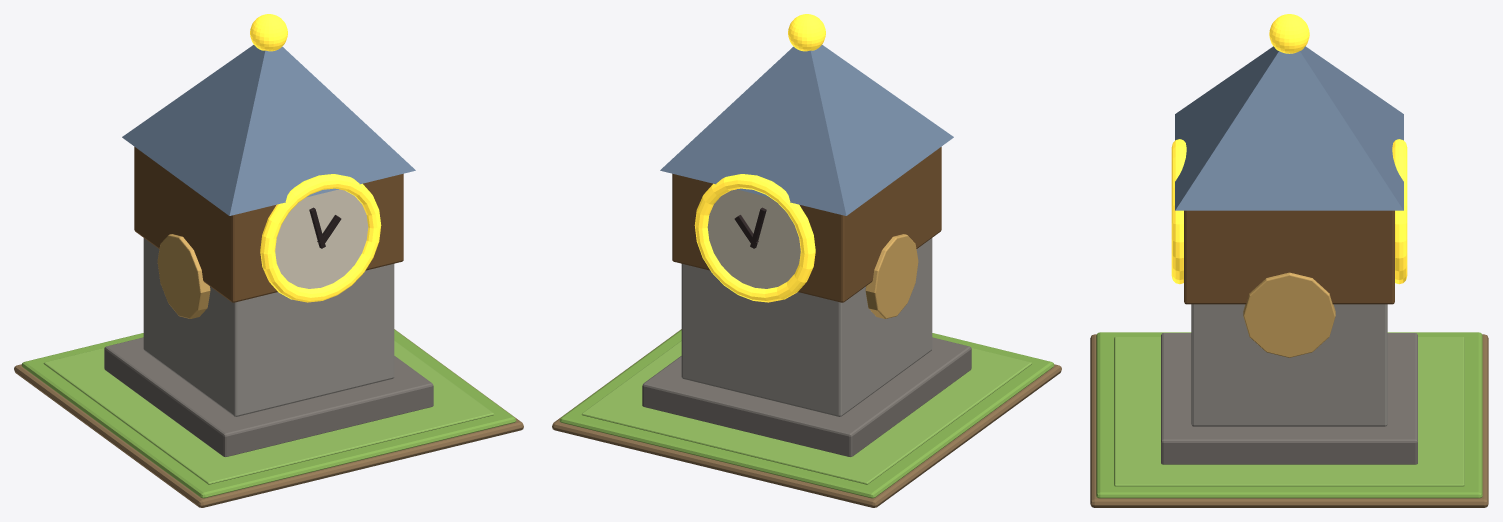
Rendered from clock_tower_lv2.glb.
3 renders of one model, left to right at view 1: azimuth 30°, elevation 25°; view 2: azimuth 150°, elevation 25°; view 3: azimuth 270°, elevation 25°, orthographic. The views are drawn at different scales.
Visible parts, largest first — view 1: CT_SpireRoof, CT_LowerShaft, Base_Inner, CT_Plinth, CT_UpperHousing, Base_Grass, ClockDial_-1, Base_Dirt, ClockBezel_-1, CT_SideGear_-1, CT_ApexOrb; view 2: CT_SpireRoof, CT_LowerShaft, Base_Inner, CT_Plinth, CT_UpperHousing, Base_Grass, ClockDial_1, Base_Dirt, ClockBezel_1, CT_SideGear_-1, CT_ApexOrb; view 3: CT_SpireRoof, CT_LowerShaft, Base_Inner, CT_UpperHousing, CT_Plinth, Base_Grass, Base_Dirt, CT_SideGear_1, ClockBezel_1, ClockBezel_-1, CT_ApexOrb.
Boxes of the visible parts, x1,y1,x2,y2 form: CT_SpireRoof: [122, 45, 415, 215]; CT_LowerShaft: [143, 238, 394, 416]; Base_Inner: [43, 340, 494, 484]; CT_Plinth: [104, 337, 433, 456]; CT_UpperHousing: [134, 147, 403, 302]; Base_Grass: [21, 329, 516, 498]; ClockDial_-1: [275, 189, 368, 288]; Base_Dirt: [14, 329, 523, 507]; ClockBezel_-1: [260, 174, 381, 302]; CT_SideGear_-1: [157, 234, 210, 318]; CT_ApexOrb: [250, 14, 287, 51]; CT_SpireRoof: [660, 45, 953, 215]; CT_LowerShaft: [681, 238, 932, 416]; Base_Inner: [581, 340, 1032, 484]; CT_Plinth: [642, 337, 971, 456]; CT_UpperHousing: [672, 147, 941, 302]; Base_Grass: [559, 329, 1054, 498]; ClockDial_1: [707, 189, 800, 288]; Base_Dirt: [552, 329, 1061, 507]; ClockBezel_1: [694, 174, 815, 302]; CT_SideGear_-1: [865, 234, 918, 318]; CT_ApexOrb: [788, 14, 825, 51]; CT_SpireRoof: [1175, 46, 1403, 210]; CT_LowerShaft: [1191, 304, 1387, 426]; Base_Inner: [1114, 337, 1464, 486]; CT_UpperHousing: [1184, 210, 1394, 304]; CT_Plinth: [1161, 333, 1417, 464]; Base_Grass: [1096, 332, 1482, 498]; Base_Dirt: [1090, 334, 1488, 507]; CT_SideGear_1: [1243, 272, 1335, 357]; ClockBezel_1: [1392, 139, 1407, 284]; ClockBezel_-1: [1171, 139, 1186, 284]; CT_ApexOrb: [1269, 14, 1309, 53].
Size of the model in its own units: 2.76 by 3.13 by 2.76.
